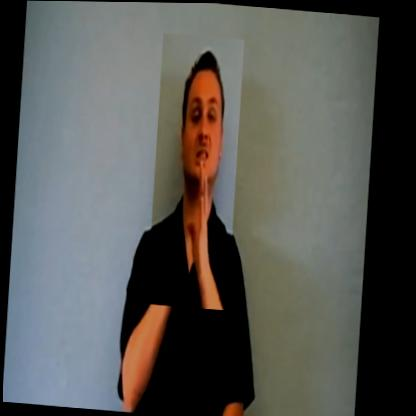Talk: (144, 33, 246, 311)
